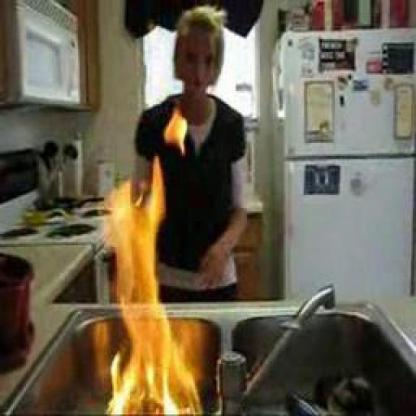fire: (97, 97, 204, 416)
